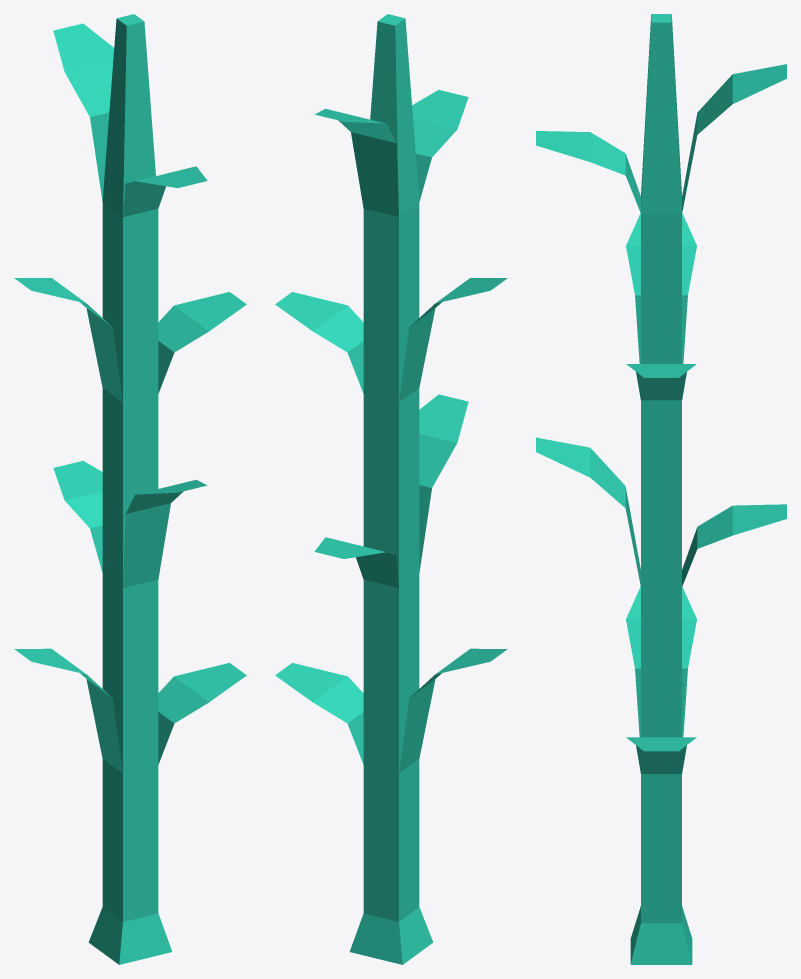
The model's file is crops_cornStageC.glb.
3 renders of one model, left to right at view 1: azimuth 30°, elevation 25°; view 2: azimuth 150°, elevation 25°; view 3: azimuth 270°, elevation 25°, orthographic.
Visible parts, largest first — view 1: crops_cornStageC; view 2: crops_cornStageC; view 3: crops_cornStageC.
Boxes of the visible parts, x1,y1,x2,y2 form: crops_cornStageC: (14,14,246,964); crops_cornStageC: (275,14,507,964); crops_cornStageC: (536,14,786,964).
Bounding box in the file's own units: 0.3042 × 1.25 × 0.3042.
